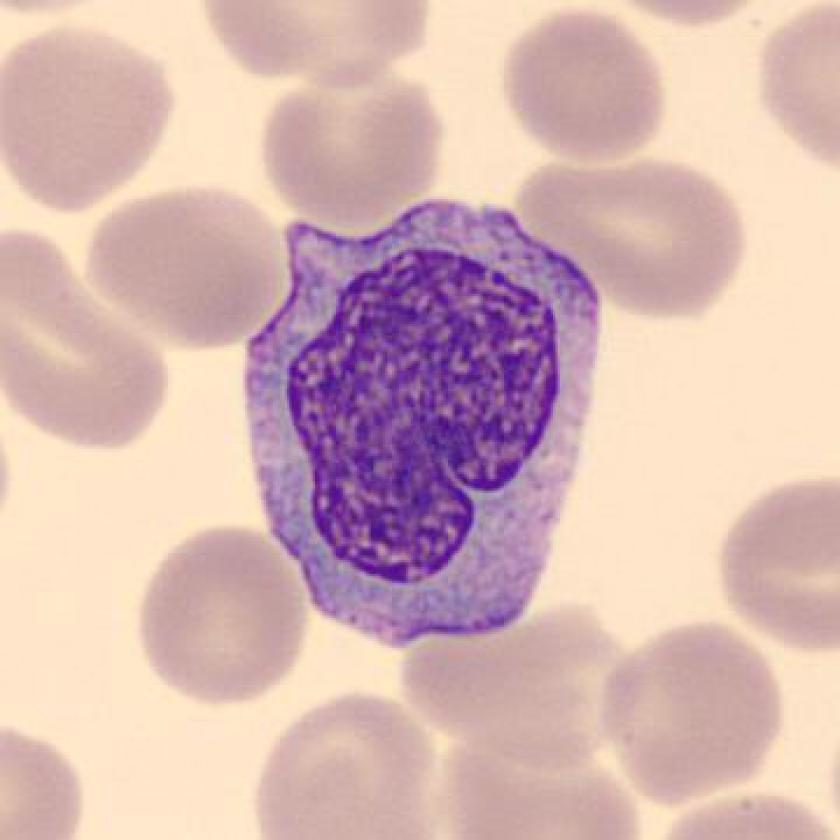monocyte: (218, 184, 624, 665)
